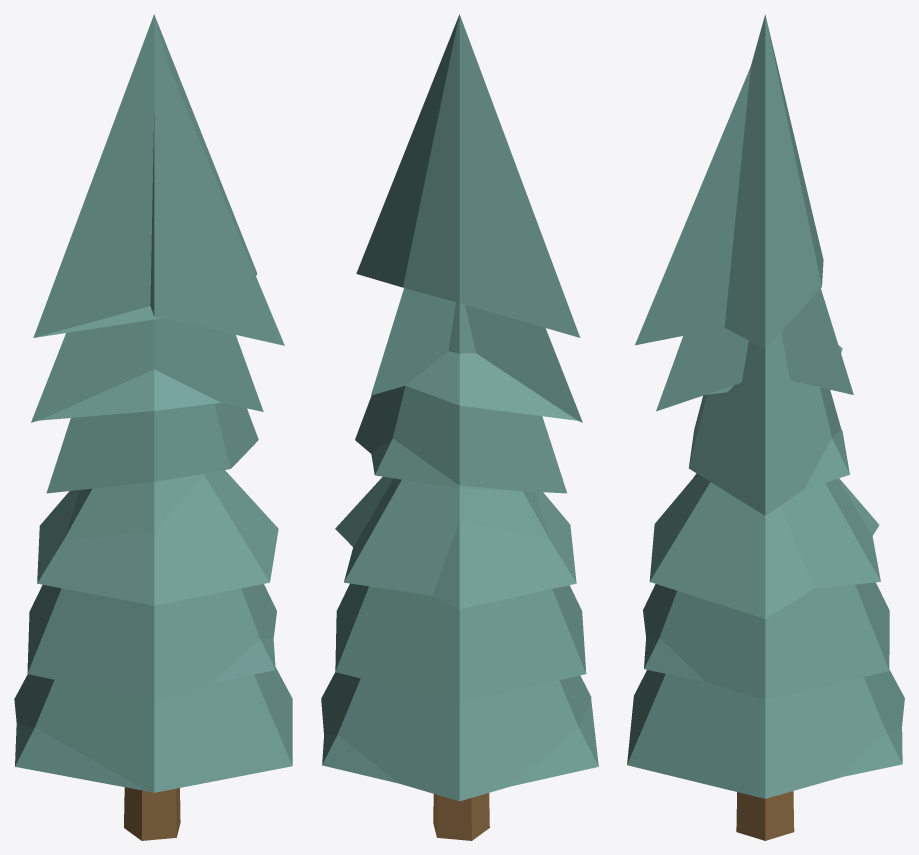
File: Pine_005.fbx
3 views of the same model, side by side, from view 1: azimuth 30°, elevation 25°; view 2: azimuth 150°, elevation 25°; view 3: azimuth 270°, elevation 25° (orthographic).
Parts seen in each view (by area): view 1: Pine.005; view 2: Pine.005; view 3: Pine.005.
Part boxes in pixels (<box>): Pine.005: <box>14,14,292,840</box>; Pine.005: <box>321,14,598,840</box>; Pine.005: <box>627,14,904,840</box>.
Size of the model in its own units: 3.99 by 11.2 by 3.46.
